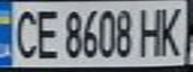0: (97, 6, 118, 58)
6: (78, 6, 100, 60)
8: (112, 4, 139, 58), (60, 7, 84, 60)
C: (6, 4, 42, 61)
E: (30, 6, 63, 61)
H: (136, 3, 166, 57)
K: (154, 2, 190, 56)
